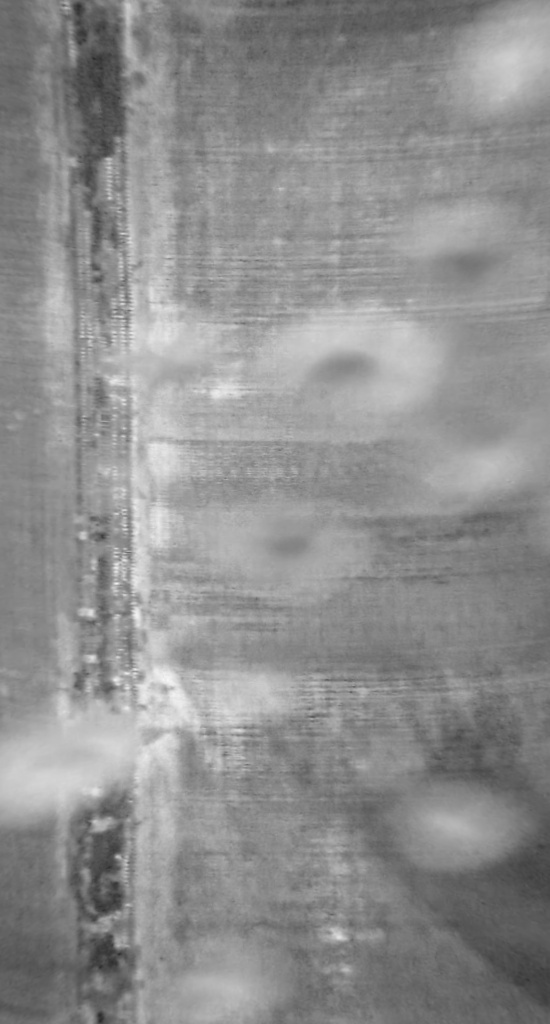splice: (58, 1, 145, 1024)
